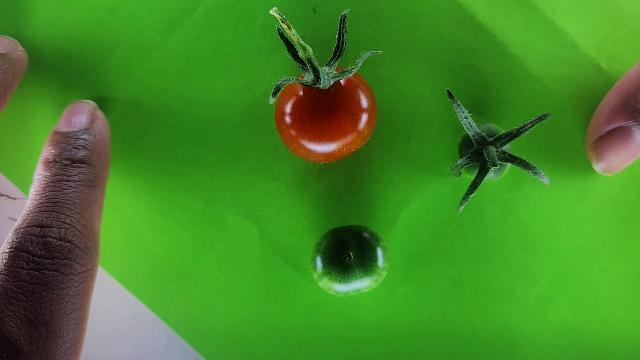Fruit Maturation: (308, 222, 390, 298), (457, 124, 511, 181)
Fully Grown: (270, 66, 379, 166)
